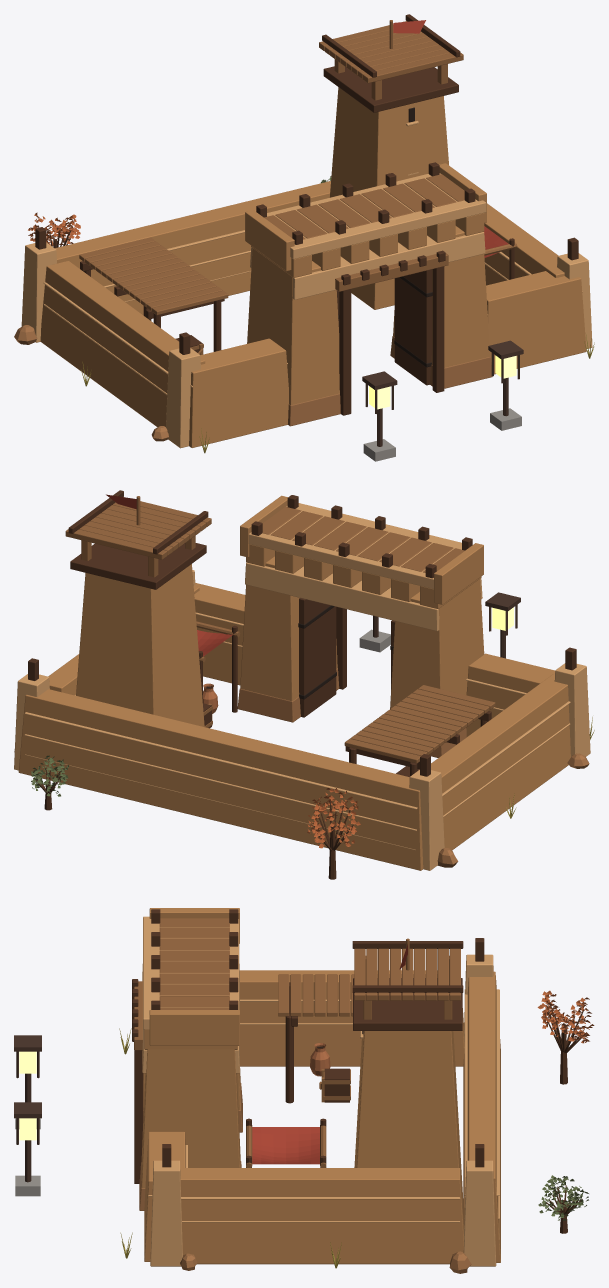
Rendered from yumenguan.glb.
3 views of the same model, one above another, from view 1: azimuth 30°, elevation 25°; view 2: azimuth 150°, elevation 25°; view 3: azimuth 270°, elevation 25° (orthographic). The views are drawn at different scales.
Visible parts, largest first — view 1: yumenguan_building_only; view 2: yumenguan_building_only; view 3: yumenguan_building_only.
Boxes of the visible parts, x1,y1,x2,y2 form: yumenguan_building_only: [14, 14, 594, 461]; yumenguan_building_only: [14, 490, 594, 879]; yumenguan_building_only: [14, 908, 594, 1273].
Size of the model in its own units: 4.58 by 2.57 by 4.77.
